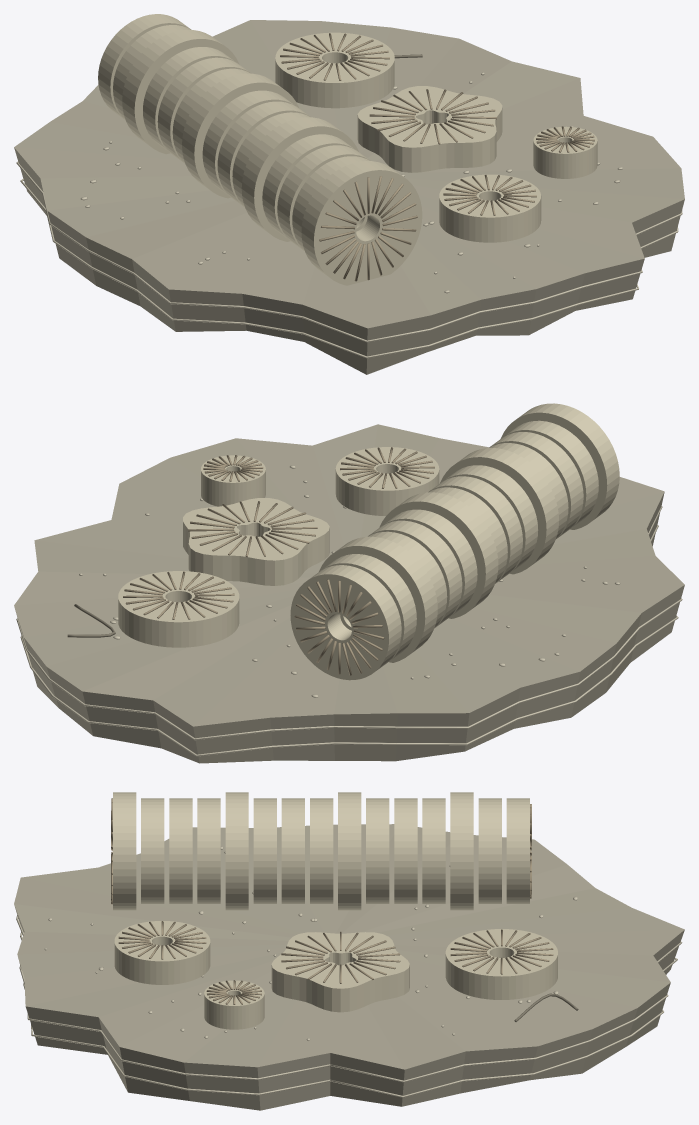
File: CrinoidStemFossil.fbx
The picture shows the model from 3 angles, top to bottom: view 1: azimuth 30°, elevation 25°; view 2: azimuth 150°, elevation 25°; view 3: azimuth 270°, elevation 25°; orthographic projection. The views are drawn at different scales.
Parts seen in each view (by area): view 1: Material group CrinoidStemFossil_Limestone, Material group CrinoidStemFossil_ColumnalCalcite, Material group CrinoidStemFossil_ArticulationRidges, Material group CrinoidStemFossil_LimestoneGrain; view 2: Material group CrinoidStemFossil_Limestone, Material group CrinoidStemFossil_ColumnalCalcite, Material group CrinoidStemFossil_ArticulationRidges, Material group CrinoidStemFossil_LimestoneGrain; view 3: Material group CrinoidStemFossil_Limestone, Material group CrinoidStemFossil_ColumnalCalcite, Material group CrinoidStemFossil_ArticulationRidges, Material group CrinoidStemFossil_LimestoneGrain.
Boxes of the visible parts, x1,y1,x2,y2 form: Material group CrinoidStemFossil_Limestone: [14, 20, 684, 374]; Material group CrinoidStemFossil_ColumnalCalcite: [98, 14, 597, 285]; Material group CrinoidStemFossil_ArticulationRidges: [280, 33, 594, 281]; Material group CrinoidStemFossil_LimestoneGrain: [16, 72, 682, 358]; Material group CrinoidStemFossil_Limestone: [14, 424, 684, 763]; Material group CrinoidStemFossil_ColumnalCalcite: [118, 403, 619, 680]; Material group CrinoidStemFossil_ArticulationRidges: [123, 447, 434, 675]; Material group CrinoidStemFossil_LimestoneGrain: [16, 465, 682, 756]; Material group CrinoidStemFossil_Limestone: [14, 824, 684, 1110]; Material group CrinoidStemFossil_ColumnalCalcite: [113, 792, 557, 1029]; Material group CrinoidStemFossil_ArticulationRidges: [111, 798, 553, 1004]; Material group CrinoidStemFossil_LimestoneGrain: [16, 846, 682, 1097].
Size of the model in its own units: 0.8673 by 0.2503 by 1.
